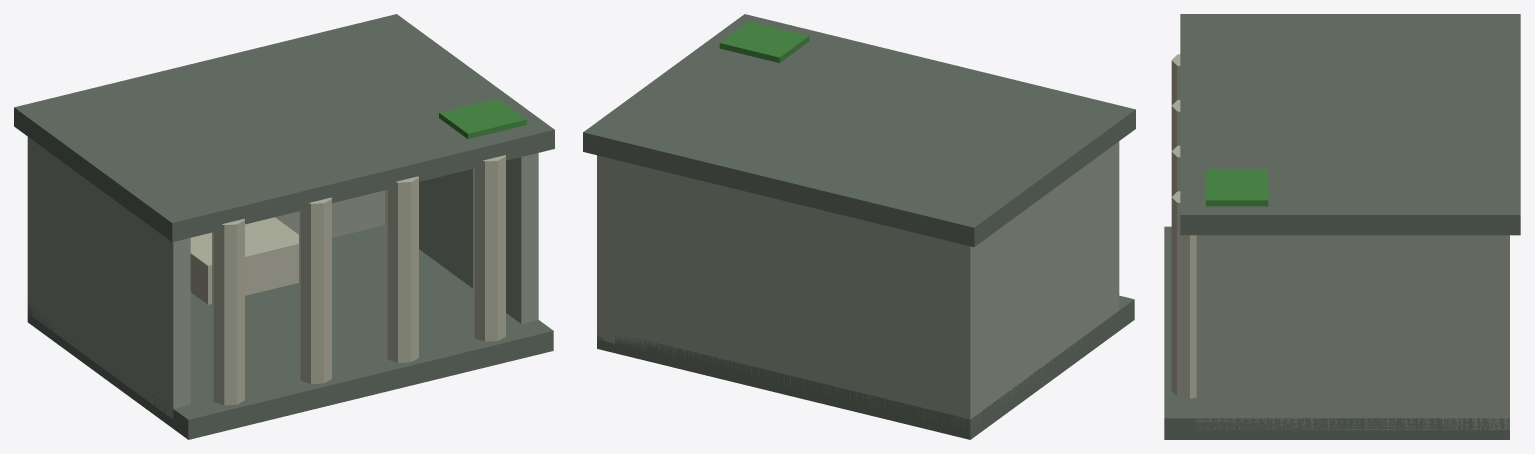
File: SM_RuinShrineHall_A.glb
3 views of the same model, side by side, from view 1: azimuth 30°, elevation 25°; view 2: azimuth 150°, elevation 25°; view 3: azimuth 270°, elevation 25° (orthographic). The views are drawn at different scales.
Visible parts, largest first — view 1: SM_RuinShrineHall_A; view 2: SM_RuinShrineHall_A; view 3: SM_RuinShrineHall_A.
Boxes of the visible parts, x1=… form: SM_RuinShrineHall_A: x1=14, y1=14, x2=554, y2=439; SM_RuinShrineHall_A: x1=583, y1=14, x2=1135, y2=439; SM_RuinShrineHall_A: x1=1164, y1=14, x2=1520, y2=439.
Size of the model in its own units: 8.8 by 4.81 by 6.6.
